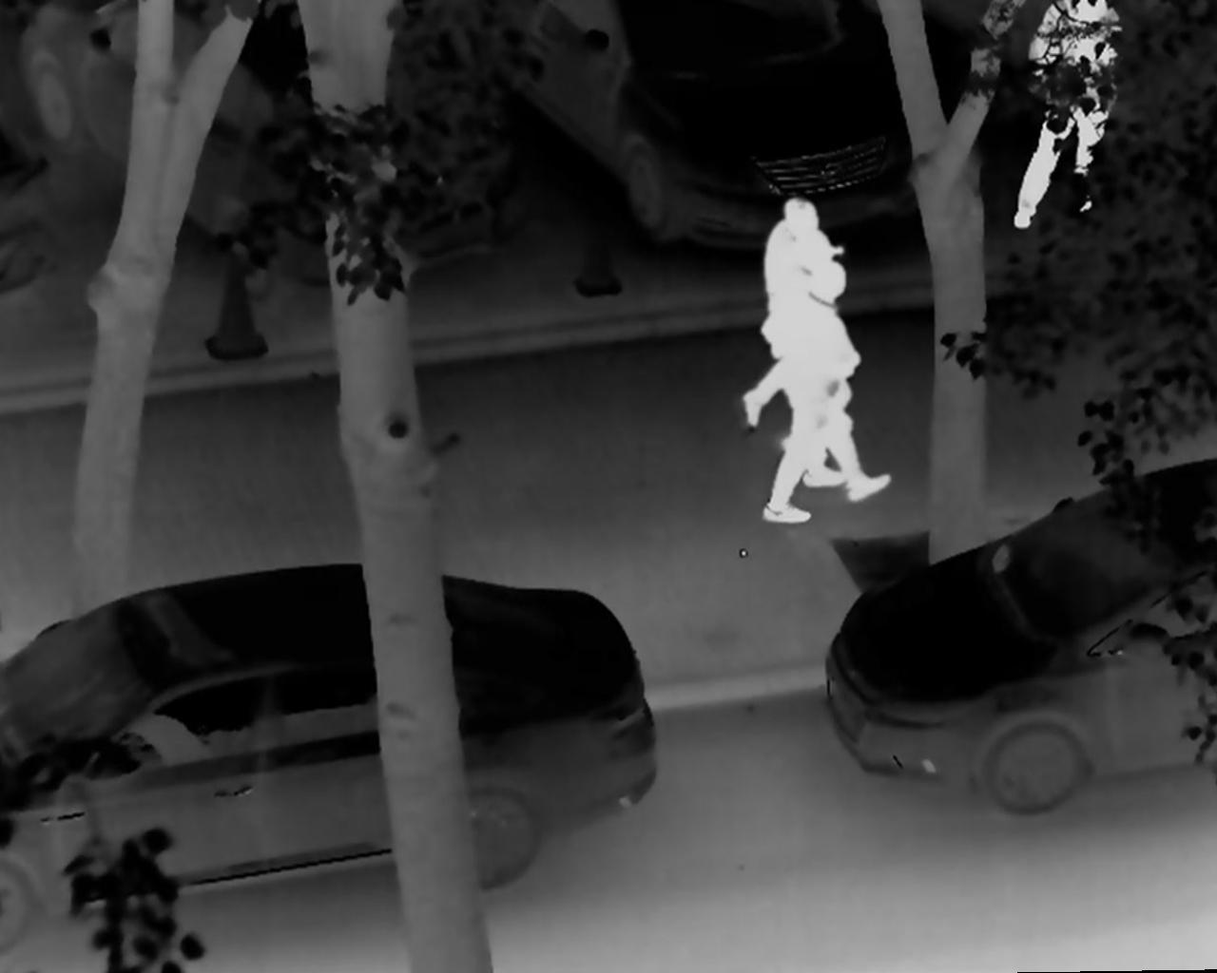person: (760, 263, 894, 524), (742, 196, 861, 429), (771, 227, 855, 491)
